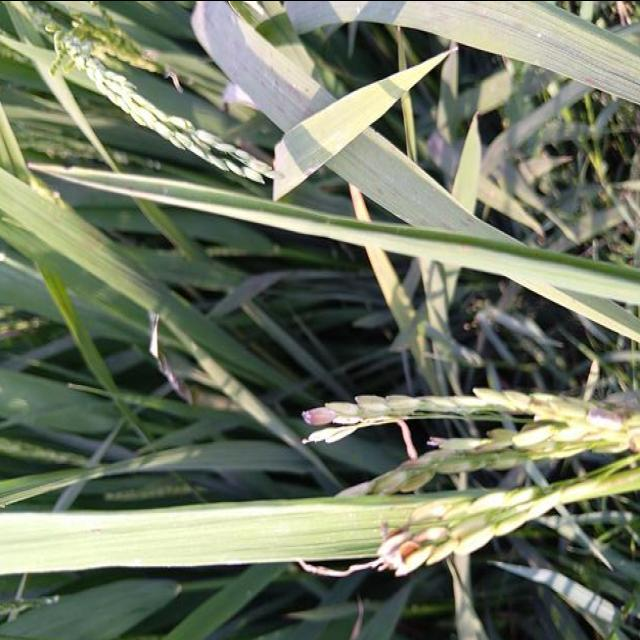Panicle Blight: (377, 528, 442, 575), (368, 459, 423, 492), (588, 407, 625, 429), (531, 396, 563, 417), (304, 407, 337, 423)
